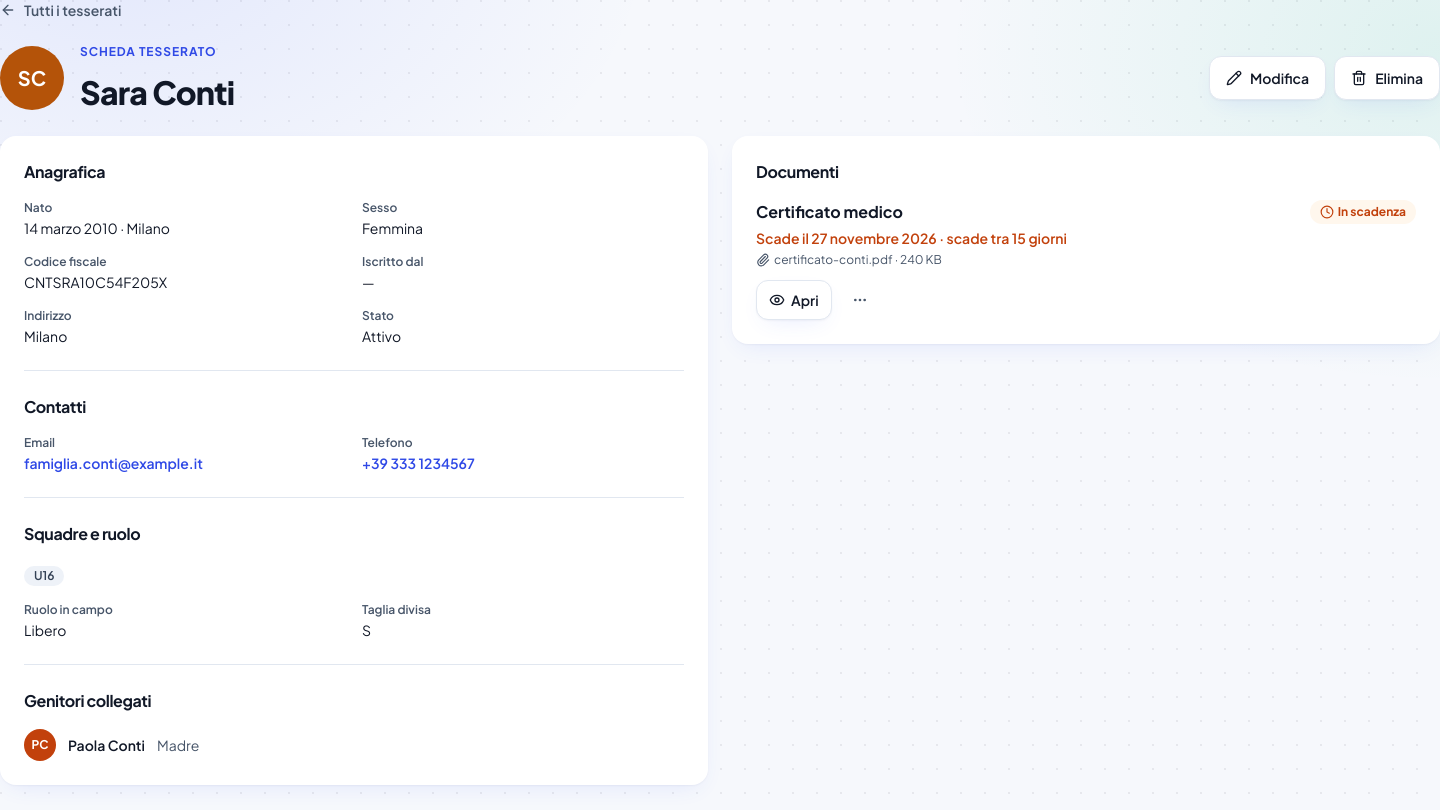
Test: MemberDetailPage › deletes a document after confirmation
What coordinates should you click on to do the following:
click the button named "Altre azioni di Certificato medico"
I would click on:
 (860, 300)
Its box is [840,280,880,320].
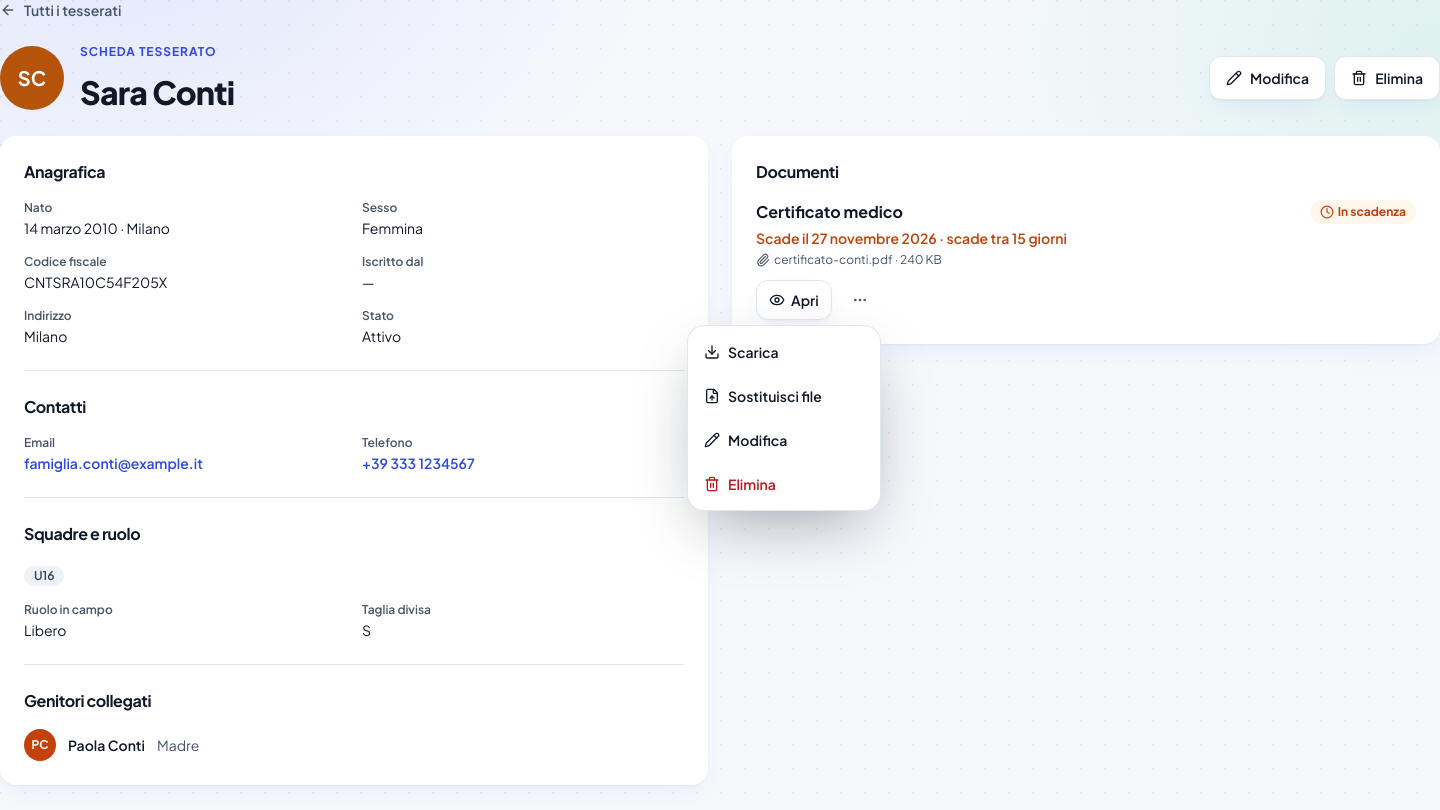
What coordinates should you click on to do the following:
click the menu item with aria-label "Elimina Certificato medico"
I would click on:
 (740, 484)
Its box is [704,475,776,493].
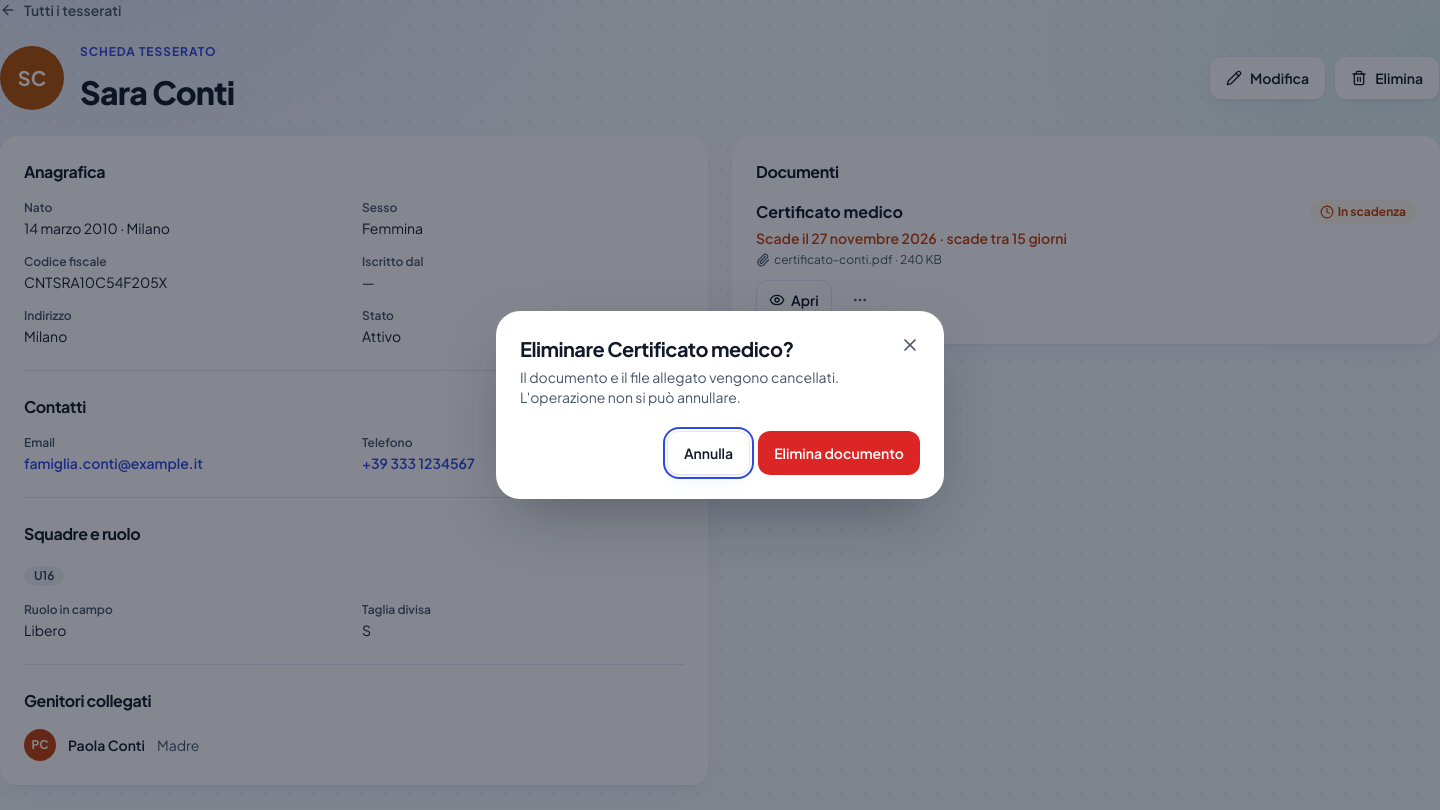
What coordinates should you click on to do the following:
click the button "Elimina documento"
I would click on:
 (839, 453)
Its box is [758,431,920,475].
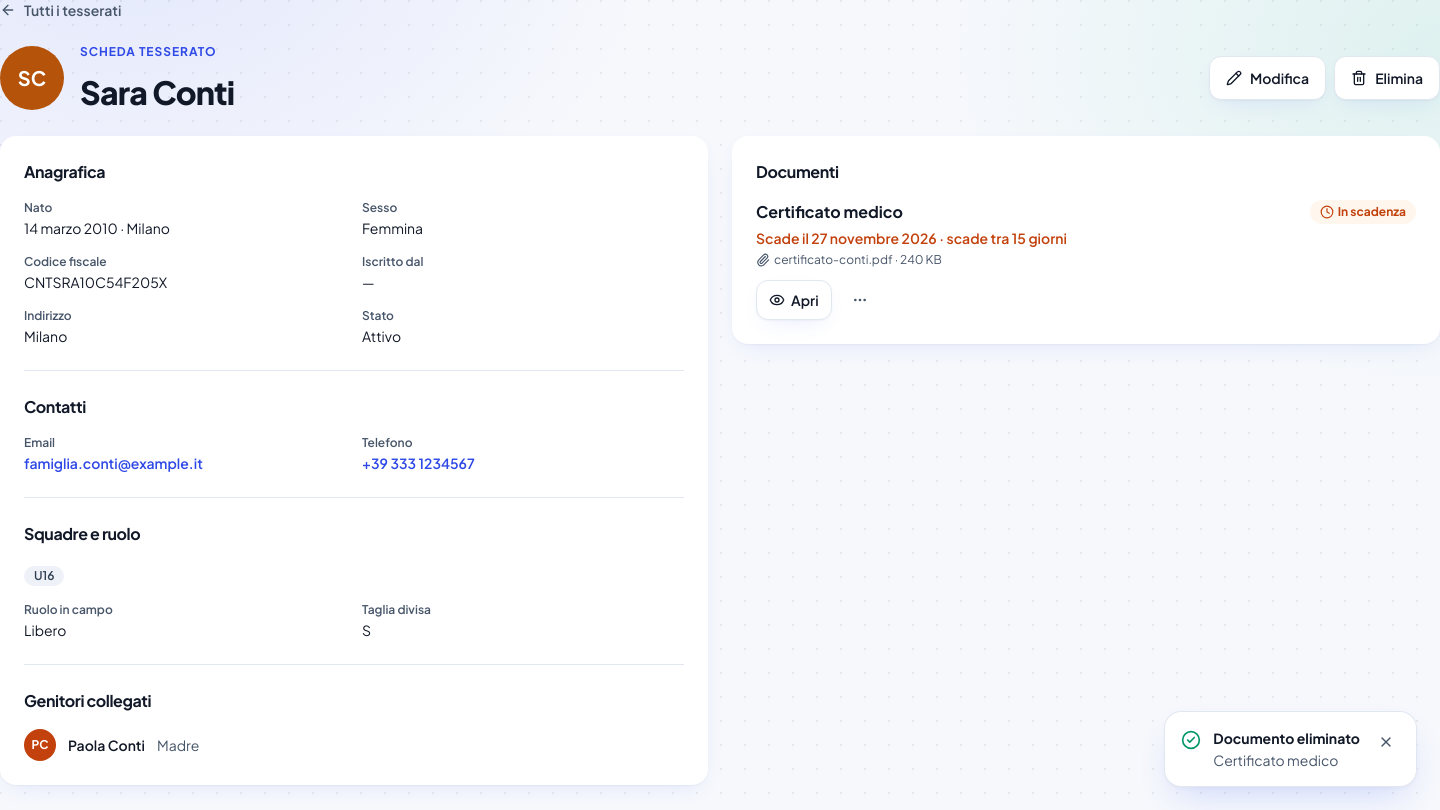
Now the text "Documento eliminato" is shown, box [1213,728,1360,748]
